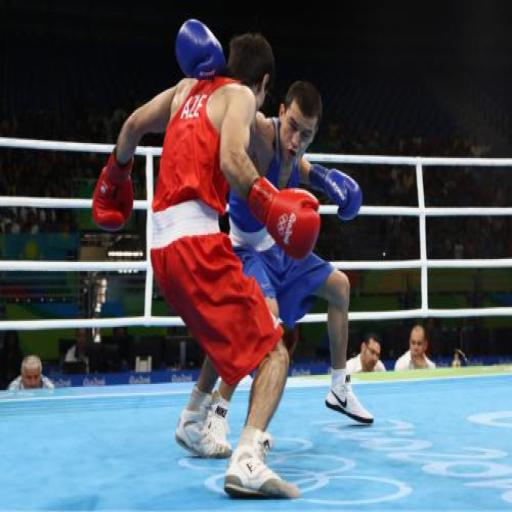boxing: (96, 23, 426, 512)
